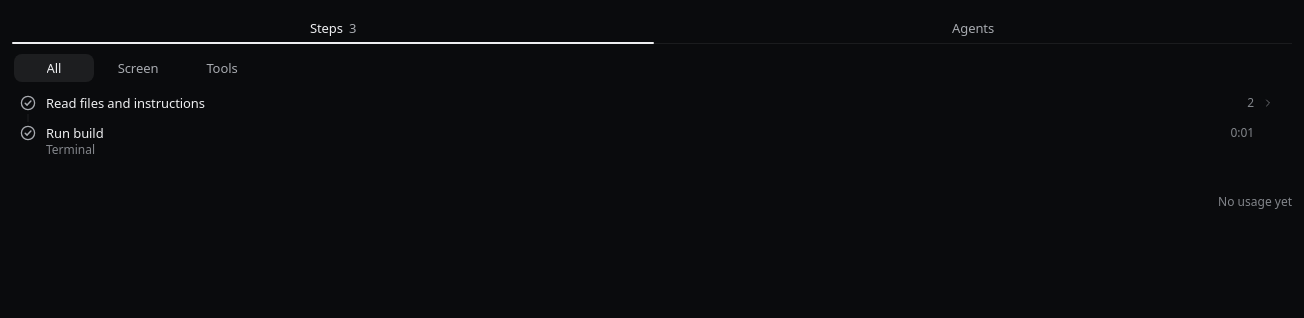
Test: indents expanded read-group children without indenting unrelated steps
The width and height of the screenshot is (1304, 318).
Click the button "Read files and instructions 2" at (125, 103), box [12,88,1282,118]
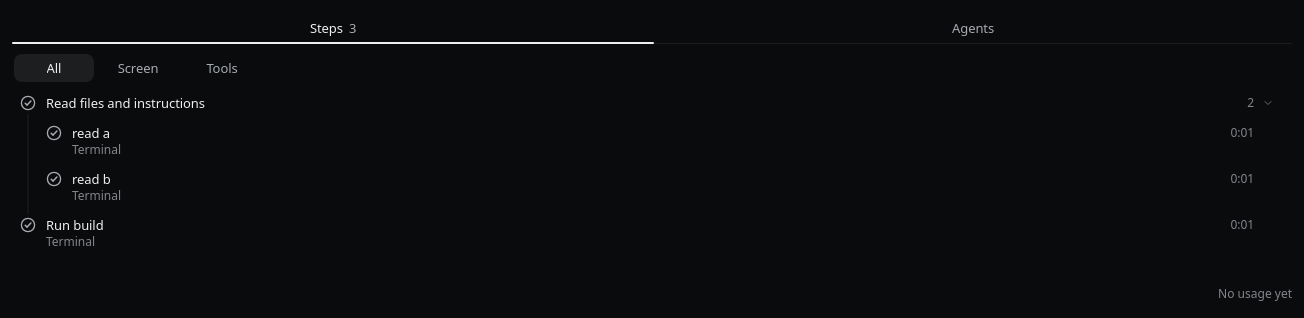
Now the element showing "read a Terminal 0:01" is shown, box [20,118,1274,164]
